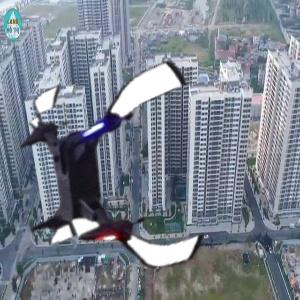drone: (6, 65, 231, 290)
